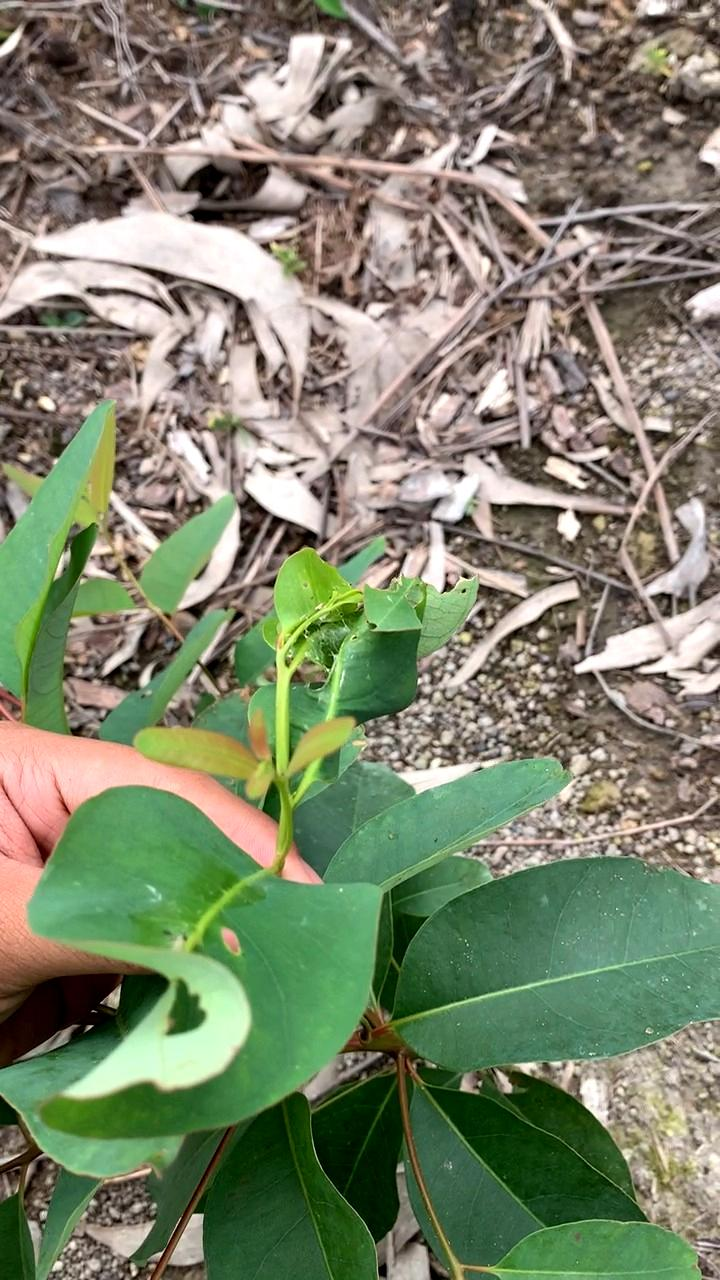Leaf Roller - Leaf: (255, 540, 481, 719)
